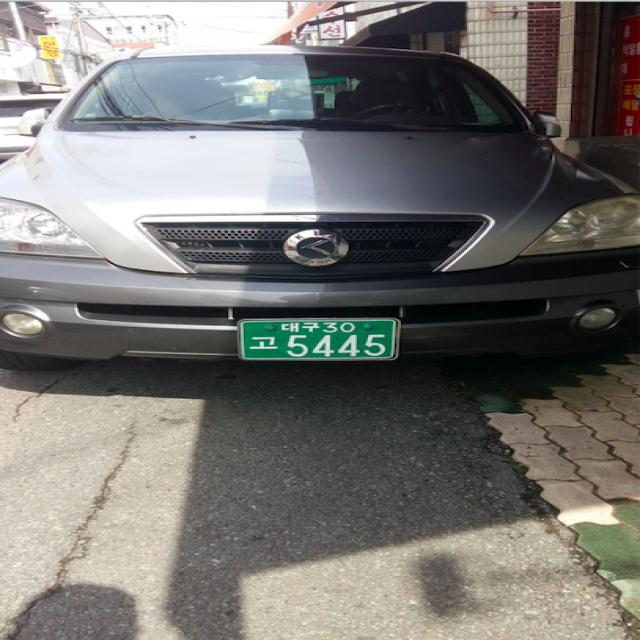car: (1, 38, 640, 377)
illegal_plate: (229, 312, 408, 370)
